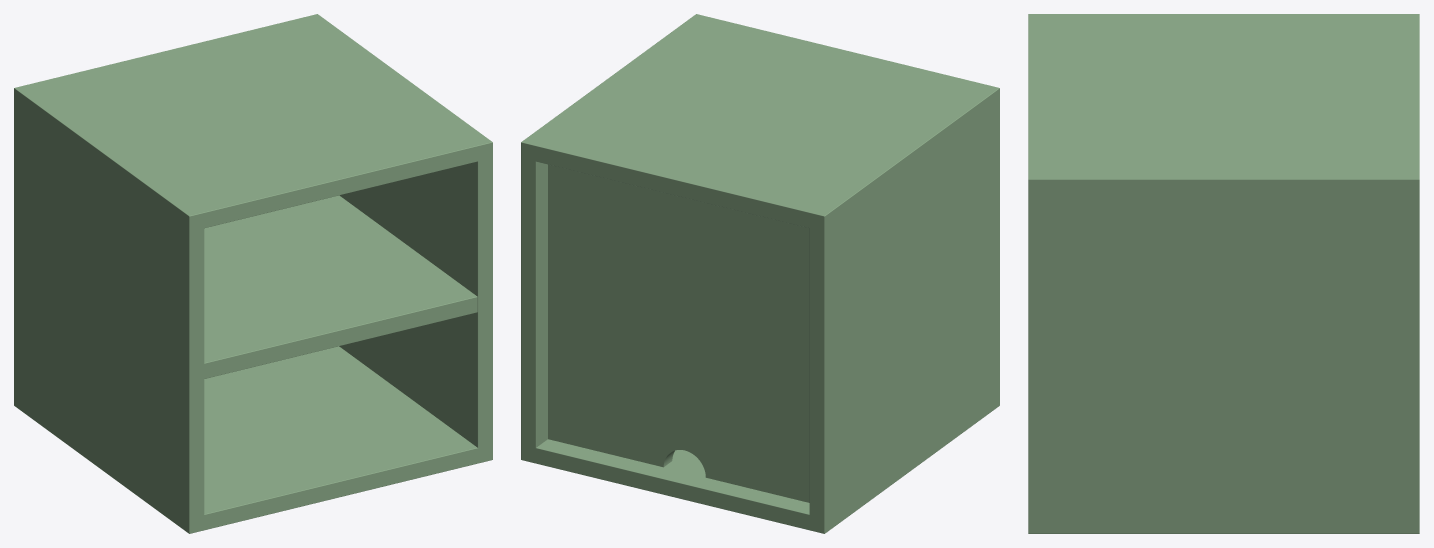
Rendered from MOD-1X1-S-B-AP-SA.glb.
3 renders of one model, left to right at view 1: azimuth 30°, elevation 25°; view 2: azimuth 150°, elevation 25°; view 3: azimuth 270°, elevation 25°, orthographic. The views are drawn at different scales.
Bounding box in the file's own units: 360 × 360 × 360.
